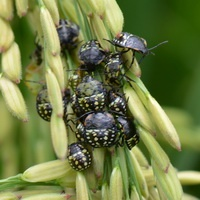insect: (56, 19, 146, 170), (104, 32, 167, 54), (36, 78, 52, 121), (57, 19, 79, 50)
